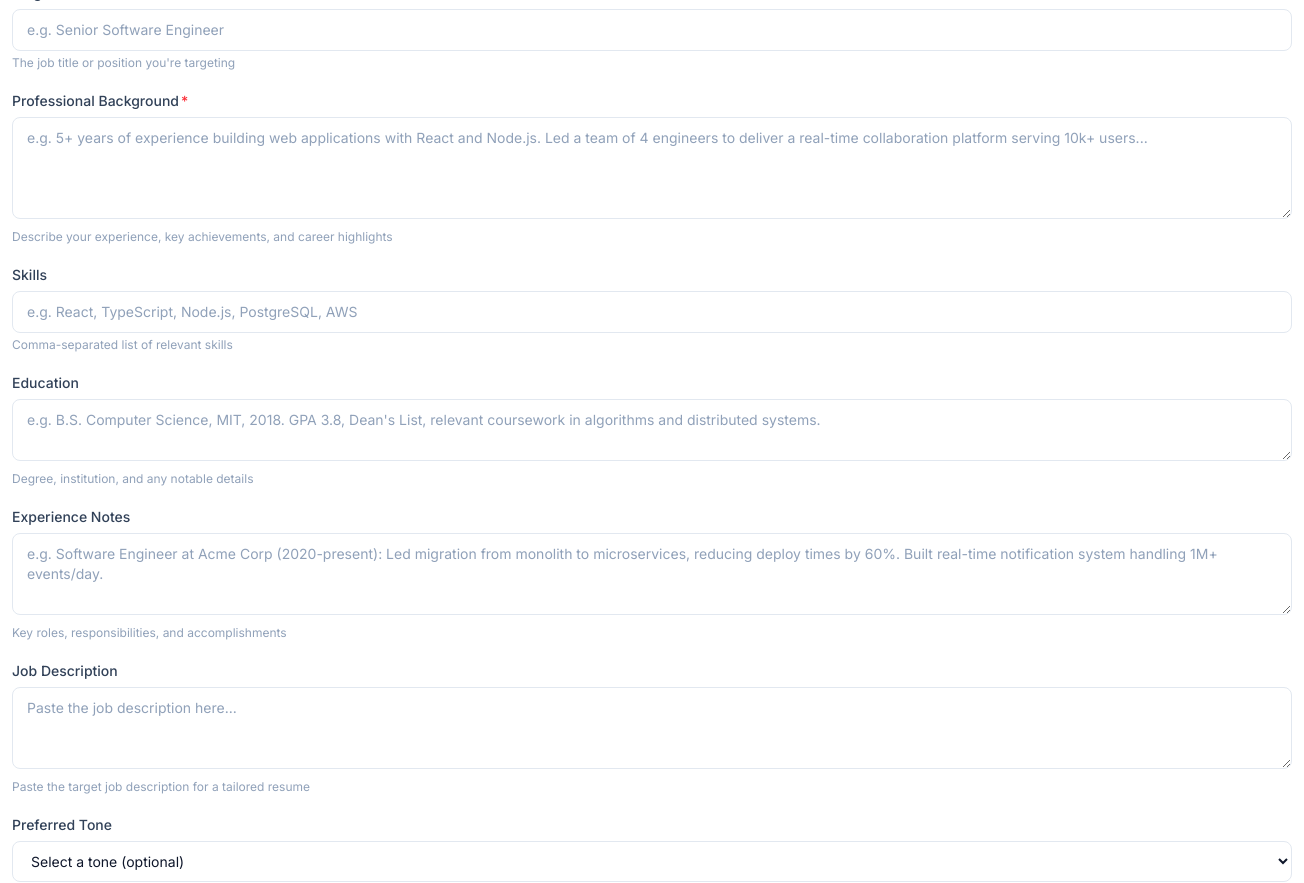
Test: 2. Required fields validate › shows error when background is empty
In the field labelled "Target Role*": (652, 30) [12, 9, 1292, 51], type "Engineer"
(page scrolled)
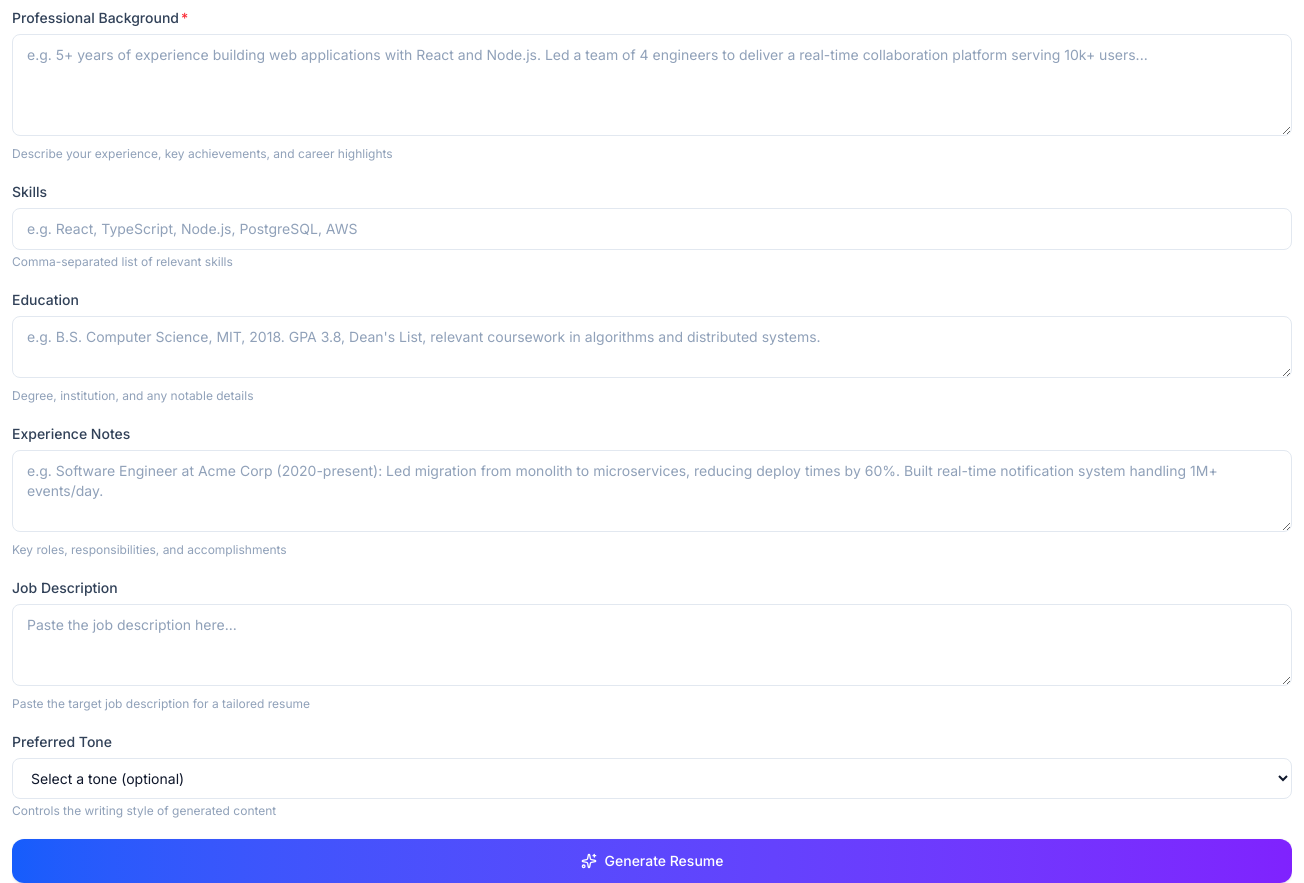
Click the button "Generate Resume": (652, 861) [12, 839, 1292, 882]
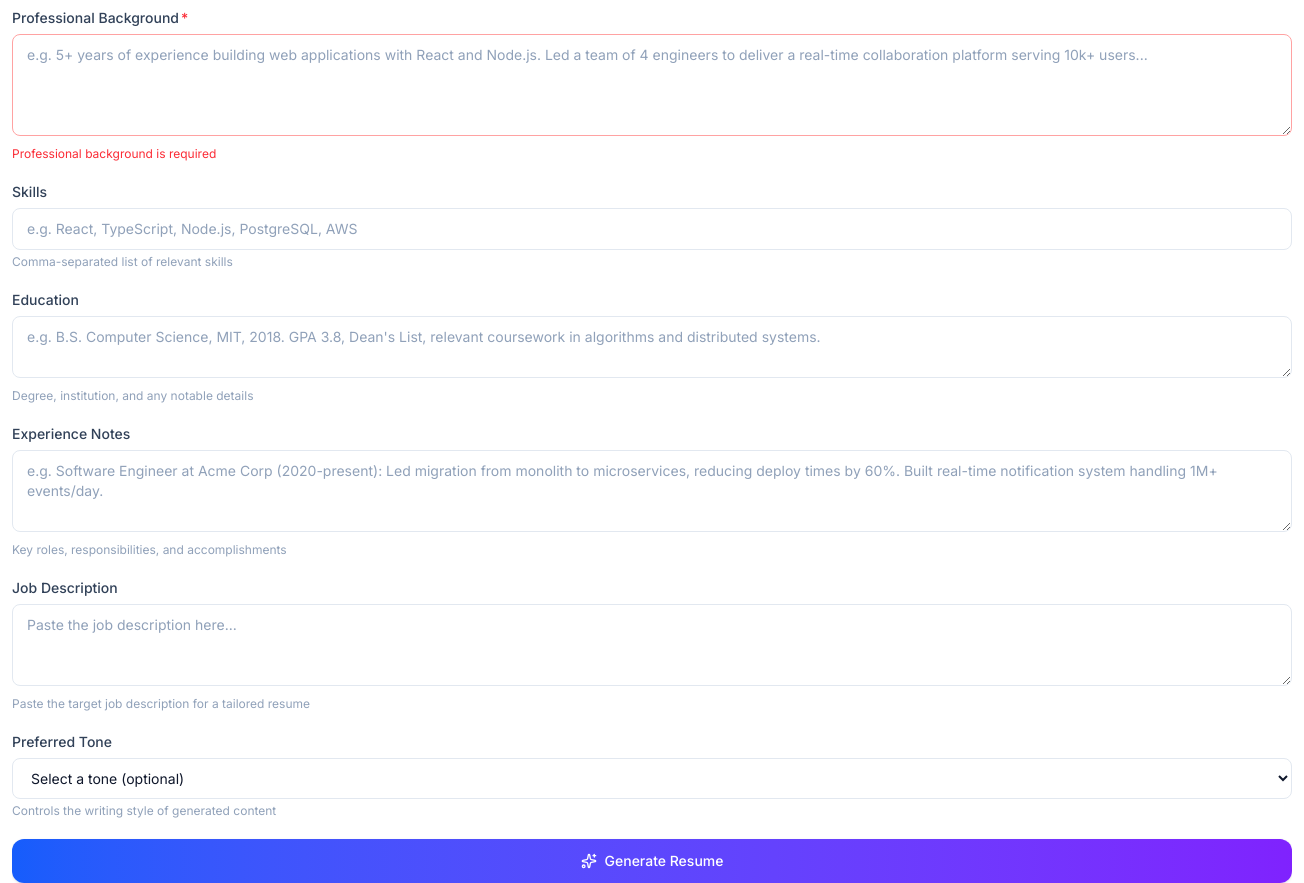
Result: the text "Professional background is required" is shown at [12, 146, 216, 161]
